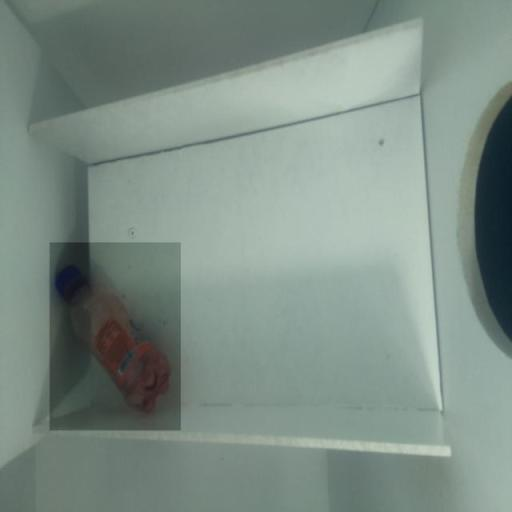bottle: (56, 247, 184, 426)
